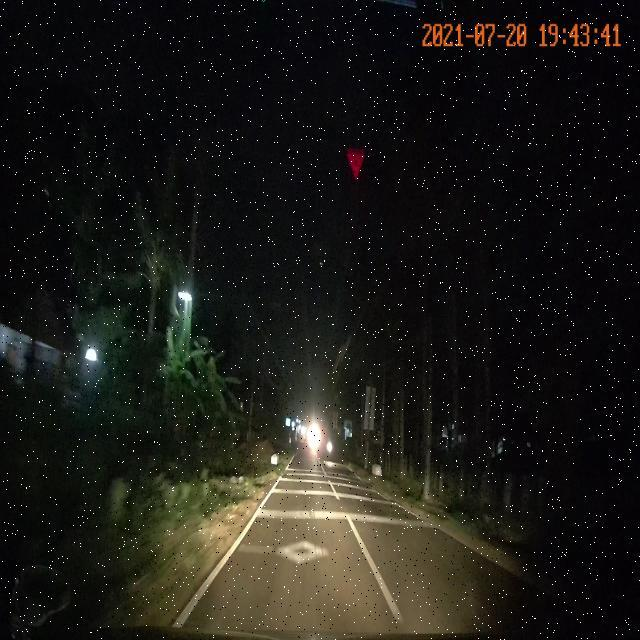diamond: (189, 528, 393, 590)
